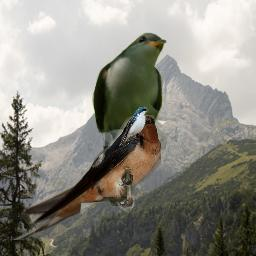Cuckoo: (92, 32, 167, 206)
Swallow: (7, 115, 161, 240), (119, 107, 149, 147)
